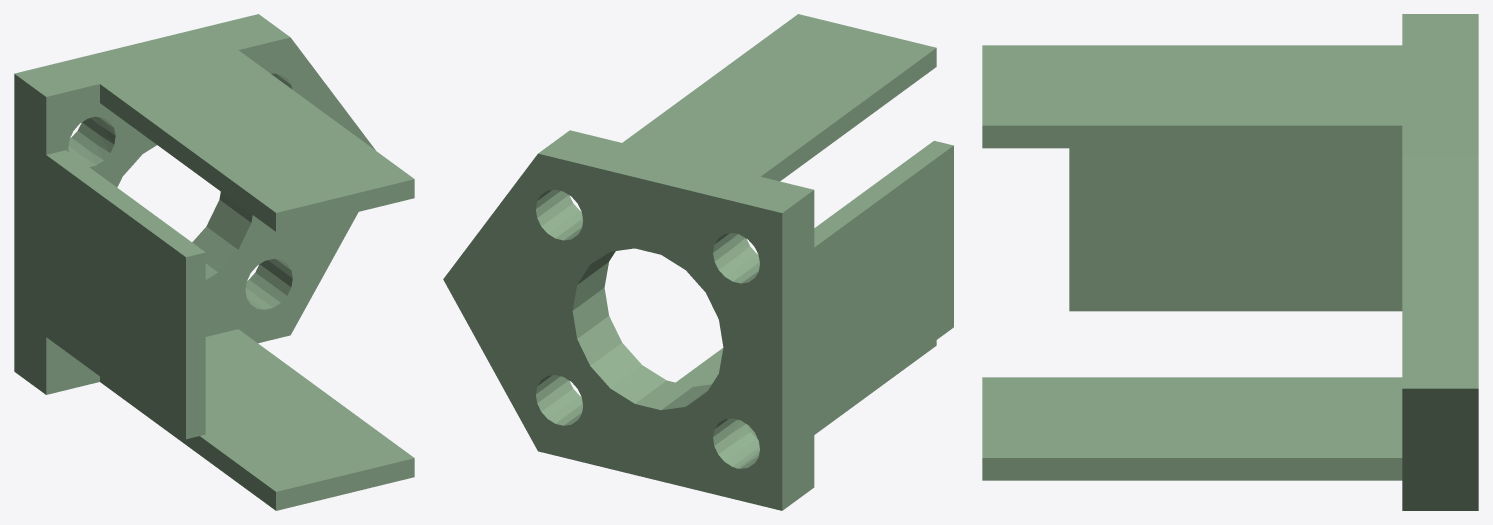
Rendered from lowerCasePart1_obj.obj.
The picture shows the model from 3 angles, left to right: view 1: azimuth 30°, elevation 25°; view 2: azimuth 150°, elevation 25°; view 3: azimuth 270°, elevation 25°; orthographic projection. The views are drawn at different scales.
Parts seen in each view (by area): view 1: lowerCasePart1\Solid; view 2: lowerCasePart1\Solid; view 3: lowerCasePart1\Solid.
Part boxes in pixels (x1,y1,x2,y2): lowerCasePart1\Solid: [14, 14, 414, 510]; lowerCasePart1\Solid: [443, 14, 953, 510]; lowerCasePart1\Solid: [982, 14, 1478, 510].
Bounding box in the file's own units: 21.45 × 18 × 22.8.
